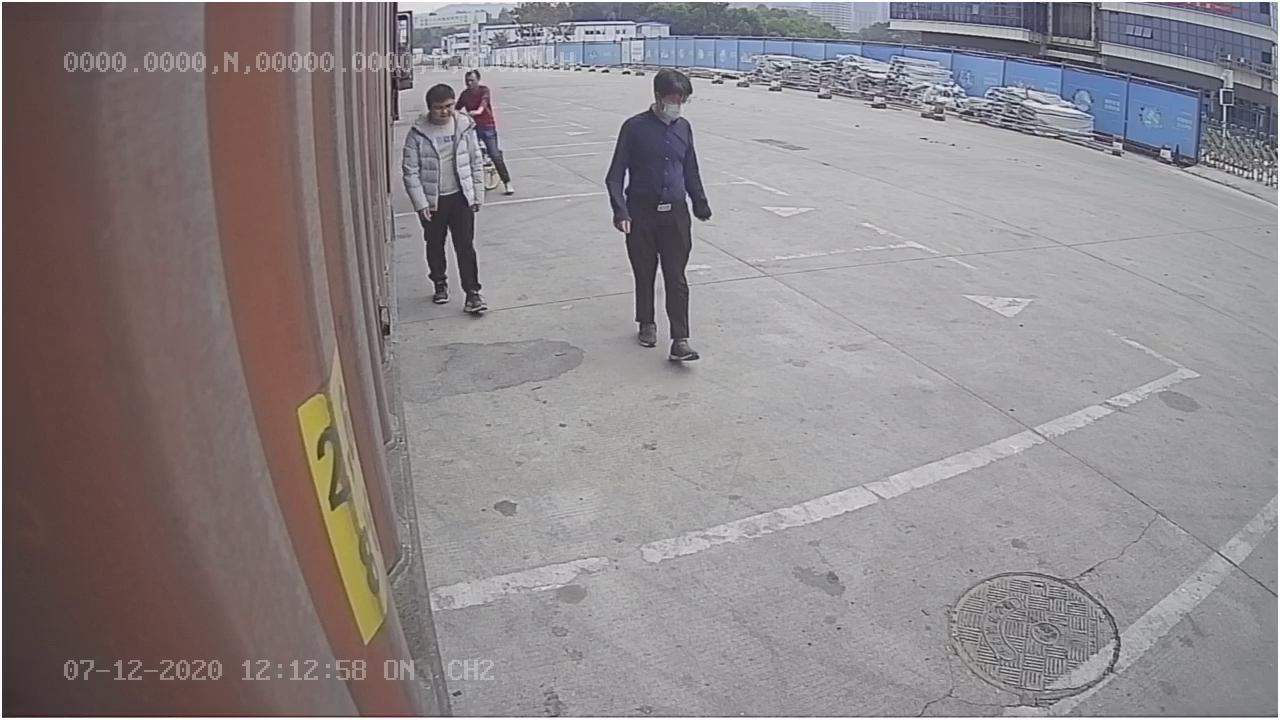person: (604, 65, 718, 366)
